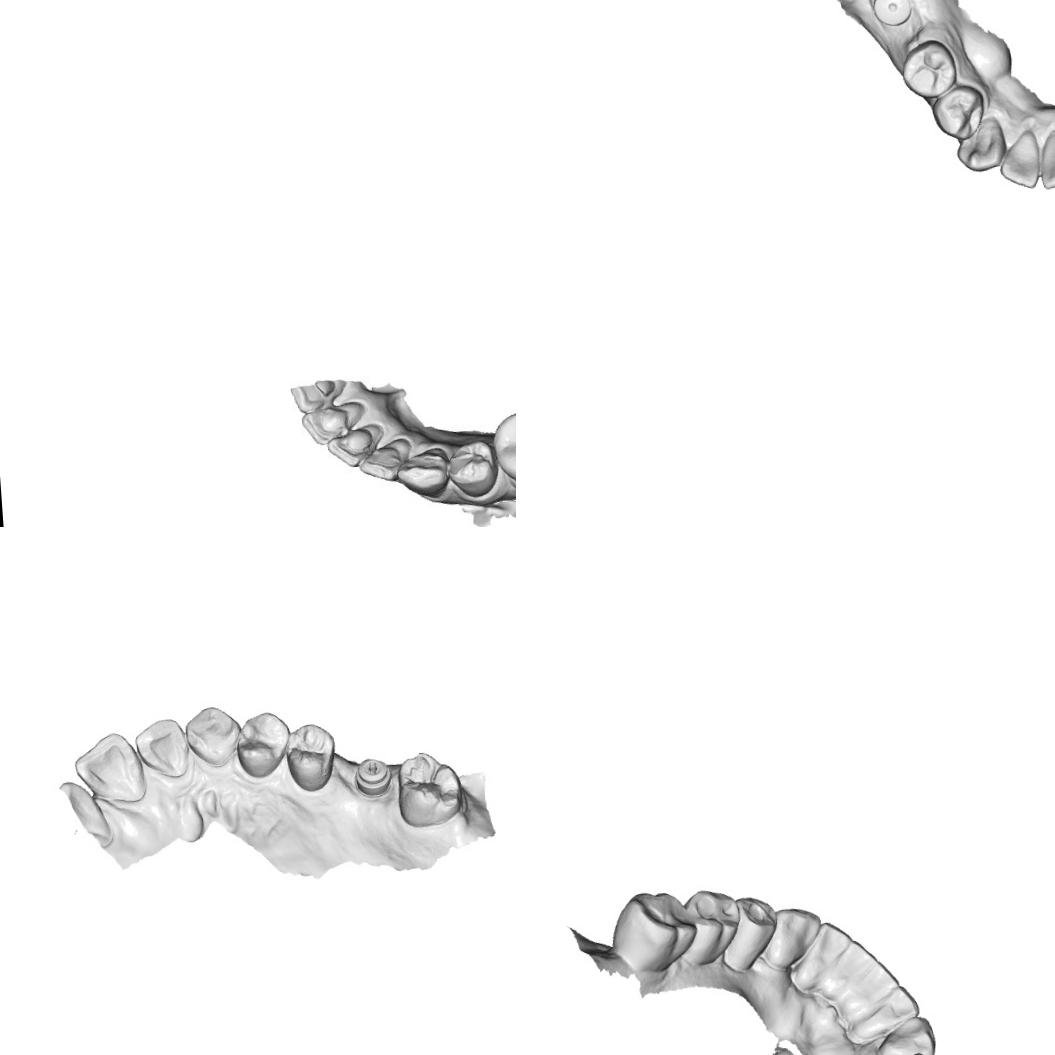canine: (180, 700, 242, 771), (762, 903, 824, 968), (952, 113, 1008, 173), (871, 1011, 939, 1055), (394, 446, 450, 497)
implant: (870, 0, 913, 28)
implant_minus: (352, 754, 392, 799)
incisor: (70, 727, 148, 809), (130, 714, 190, 782), (298, 398, 356, 448), (996, 127, 1042, 190), (852, 957, 906, 1009), (324, 423, 380, 473), (354, 435, 412, 483), (865, 982, 922, 1030), (806, 917, 855, 968), (829, 936, 878, 986), (1036, 128, 1055, 190)
molar: (604, 884, 700, 976), (392, 747, 466, 831), (488, 400, 516, 495)
premolar: (682, 885, 744, 969), (232, 708, 293, 780), (282, 720, 338, 794), (442, 432, 500, 501), (725, 892, 780, 964), (899, 37, 958, 100), (929, 81, 987, 142)
